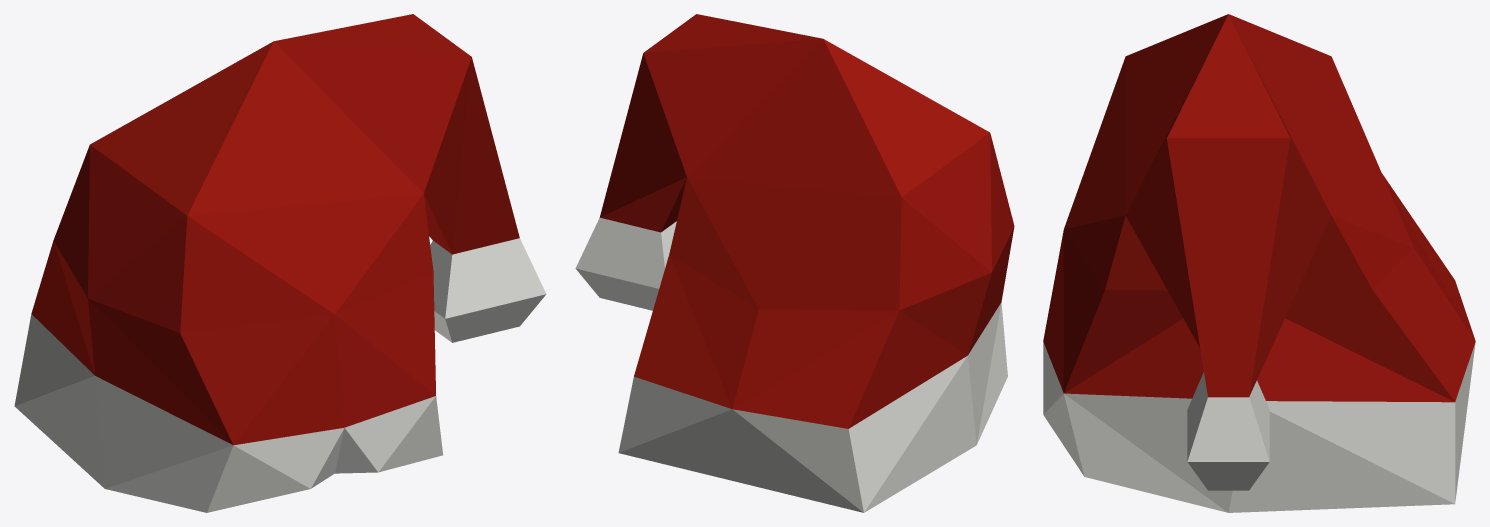
Rendered from model_366_obj_wear.obj.
3 renders of one model, left to right at view 1: azimuth 30°, elevation 25°; view 2: azimuth 150°, elevation 25°; view 3: azimuth 270°, elevation 25°, orthographic. The views are drawn at different scales.
Parts seen in each view (by area): view 1: 366; view 2: 366; view 3: 366.
Part boxes in pixels (box(x1,y1,x2,y2)): 366: box(14, 14, 546, 512); 366: box(575, 14, 1014, 512); 366: box(1043, 14, 1475, 512).
Bounding box in the file's own units: 26 × 23 × 21.
